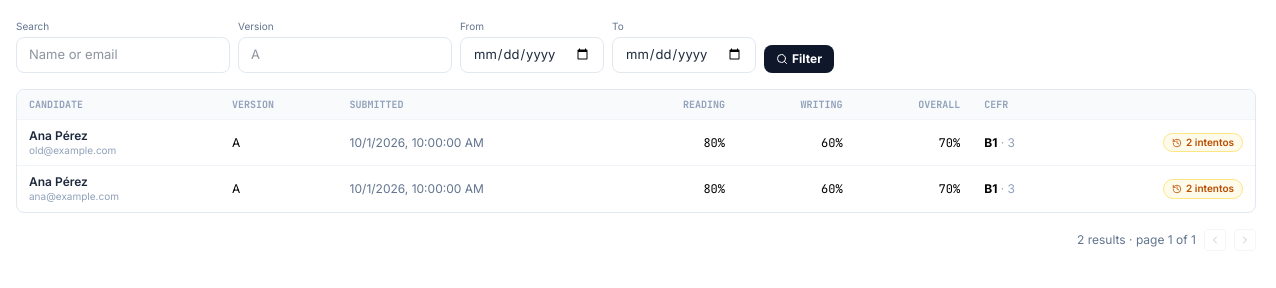
Test case: ResultsTab › keeps the most recently selected candidate history
The width and height of the screenshot is (1276, 288).
Expected: the text "old@example.com" is shown, [29, 144, 116, 156]
Click the button "2 intentos" in the row of "old@example.com" at x=1203, y=143, box [1163, 133, 1243, 152]
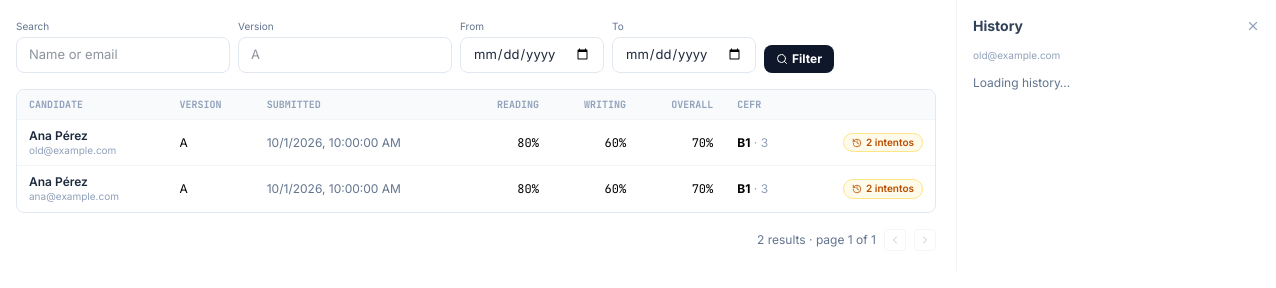
Click the button "2 intentos" in the row of "ana@example.com" at x=883, y=189, box [843, 179, 923, 199]
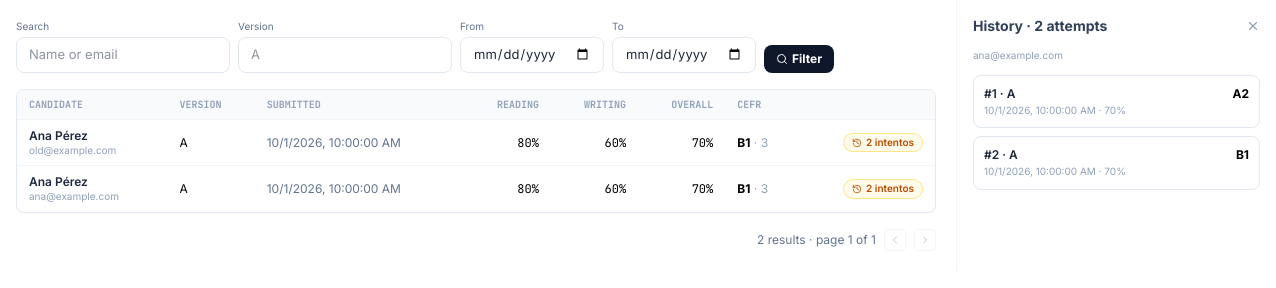
Expected: the element named "Attempt history" does not show "old@example.com", [956, 0, 1275, 271]
Expected: the element named "Attempt history" shows "ana@example.com", [973, 49, 1063, 61]
